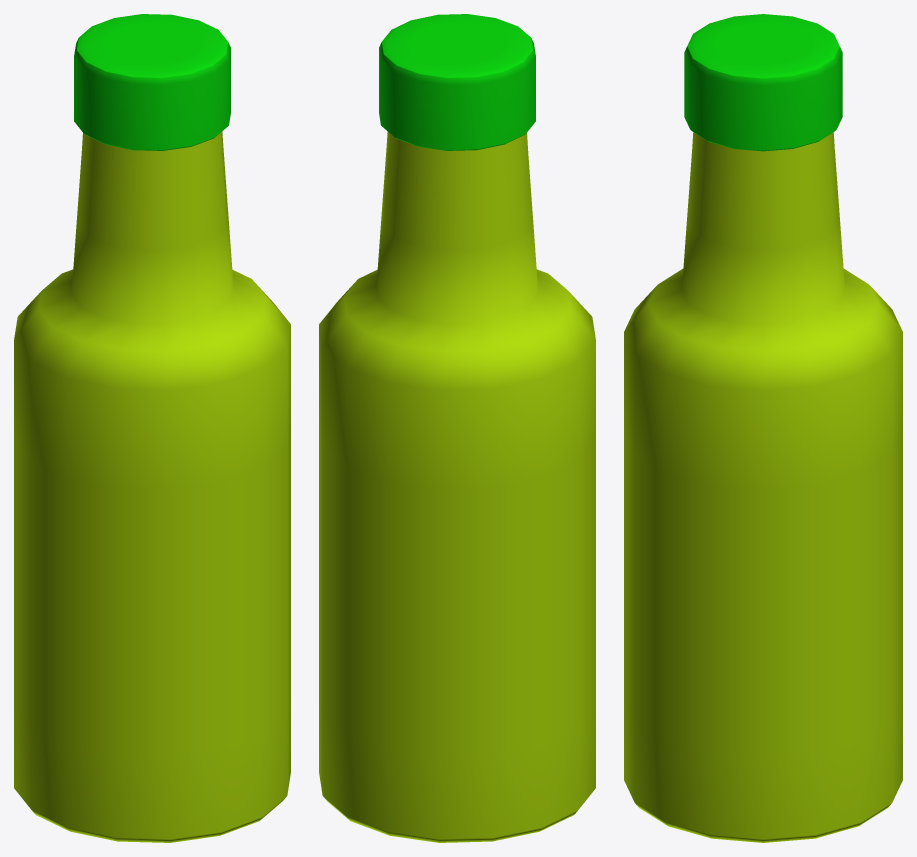
File: Glass Bottle 03.fbx
The picture shows the model from 3 angles, left to right: view 1: azimuth 30°, elevation 25°; view 2: azimuth 150°, elevation 25°; view 3: azimuth 270°, elevation 25°; orthographic projection.
Visible parts, largest first — view 1: Glass_bottle_03; view 2: Glass_bottle_03; view 3: Glass_bottle_03.
Part boxes in pixels (x1,y1,x2,y2): Glass_bottle_03: (14,14,290,842); Glass_bottle_03: (319,14,595,842); Glass_bottle_03: (624,14,902,842).
Size of the model in its own units: 10.11 by 29.68 by 10.11.
